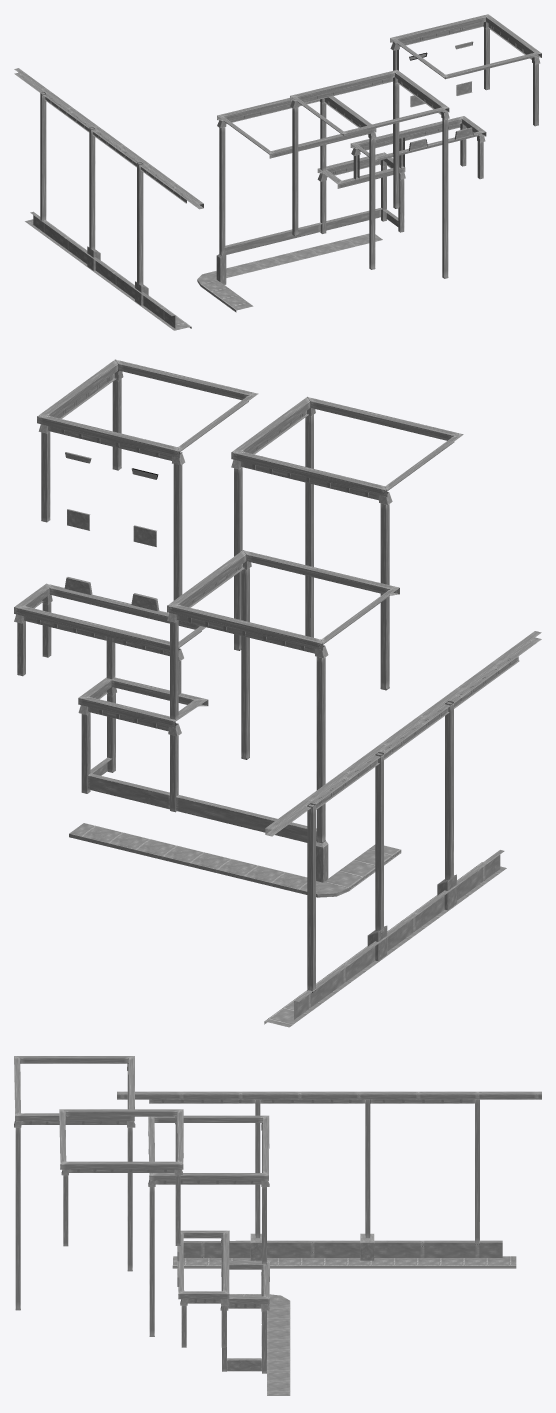
The model's file is SM_ConcreteAccents_03.fbx.
The picture shows the model from 3 angles, top to bottom: view 1: azimuth 30°, elevation 25°; view 2: azimuth 150°, elevation 25°; view 3: azimuth 270°, elevation 25°; orthographic projection. The views are drawn at different scales.
Visible parts, largest first — view 1: SM_ConcreteAccents_03; view 2: SM_ConcreteAccents_03; view 3: SM_ConcreteAccents_03.
Boxes of the visible parts, left/top/right/bottom form: SM_ConcreteAccents_03: left=14, top=14, right=541, bottom=330; SM_ConcreteAccents_03: left=14, top=359, right=541, bottom=1027; SM_ConcreteAccents_03: left=14, top=1056, right=541, bottom=1395.
Size of the model in its own units: 9971 by 7157 by 12459.
